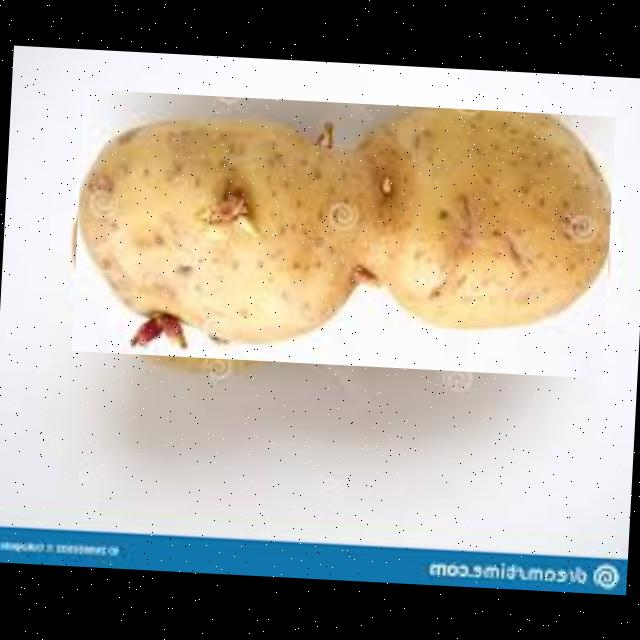Damaged potato: (71, 90, 616, 378)
